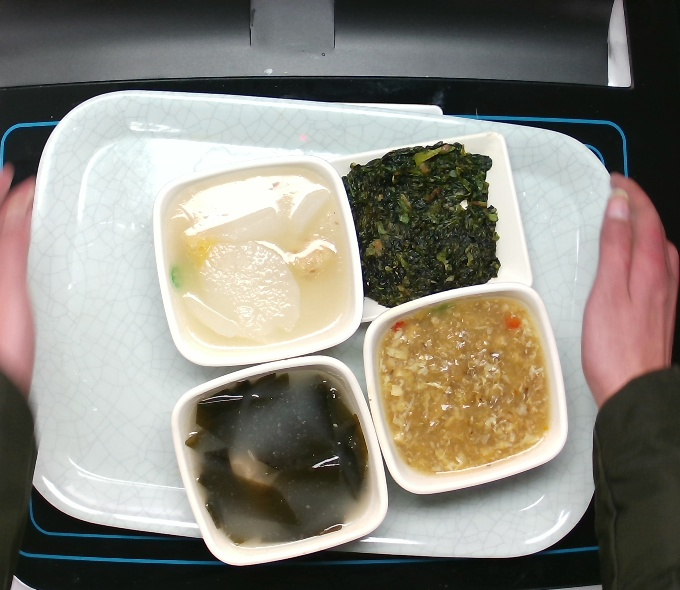wcq-HaiDaiPaiGuTang: (173, 363, 382, 555)
wcq-LuoBoYouPaoTang: (167, 170, 352, 353)
wcq-QinCaiBing: (333, 141, 504, 306)
wcq-SuanLaGeng: (378, 296, 554, 476)
